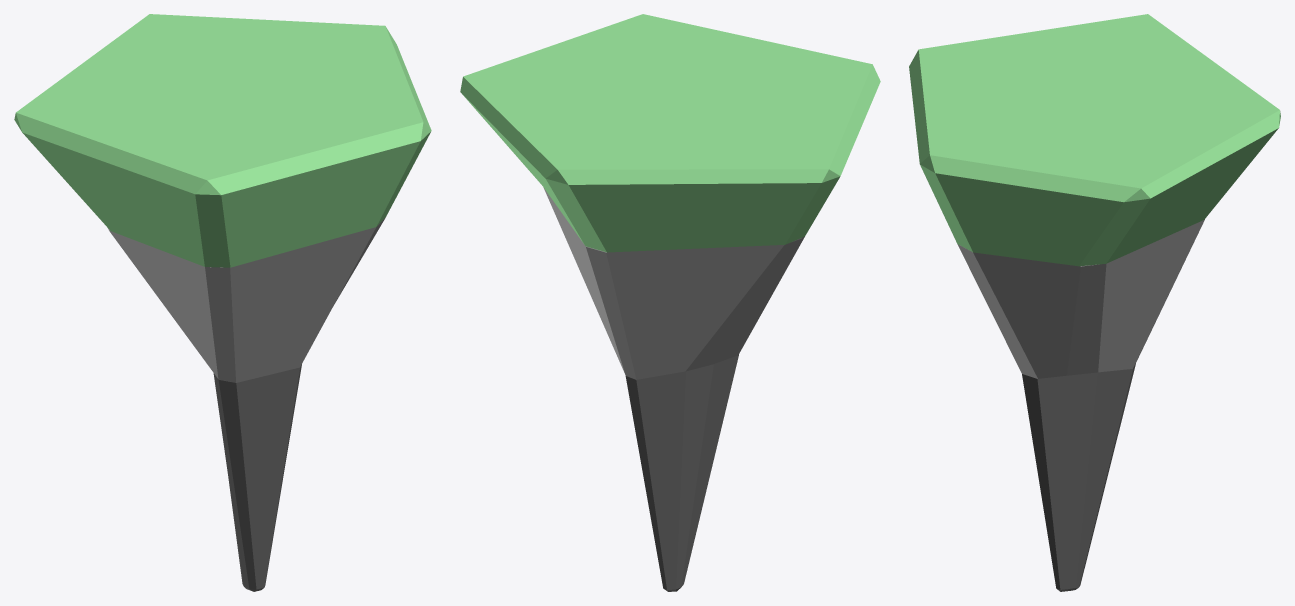
File: landSpike.fbx
3 views of the same model, side by side, from view 1: azimuth 30°, elevation 25°; view 2: azimuth 150°, elevation 25°; view 3: azimuth 270°, elevation 25° (orthographic). The views are drawn at different scales.
Parts seen in each view (by area): view 1: Cylinder.001, Cylinder.002, Cylinder.003; view 2: Cylinder.001, Cylinder.002, Cylinder.003; view 3: Cylinder.001, Cylinder.002, Cylinder.003.
Boxes of the visible parts, x1=… form: Cylinder.001: x1=14, y1=14, x2=431, y2=267; Cylinder.002: x1=108, y1=217, x2=385, y2=382; Cylinder.003: x1=213, y1=364, x2=301, y2=591; Cylinder.001: x1=460, y1=14, x2=880, y2=252; Cylinder.002: x1=543, y1=187, x2=804, y2=379; Cylinder.003: x1=625, y1=354, x2=738, y2=591; Cylinder.001: x1=909, y1=14, x2=1280, y2=266; Cylinder.002: x1=957, y1=219, x2=1204, y2=378; Cylinder.003: x1=1022, y1=363, x2=1135, y2=591.
Bounding box in the file's own units: 1400 × 1780 × 1244.
